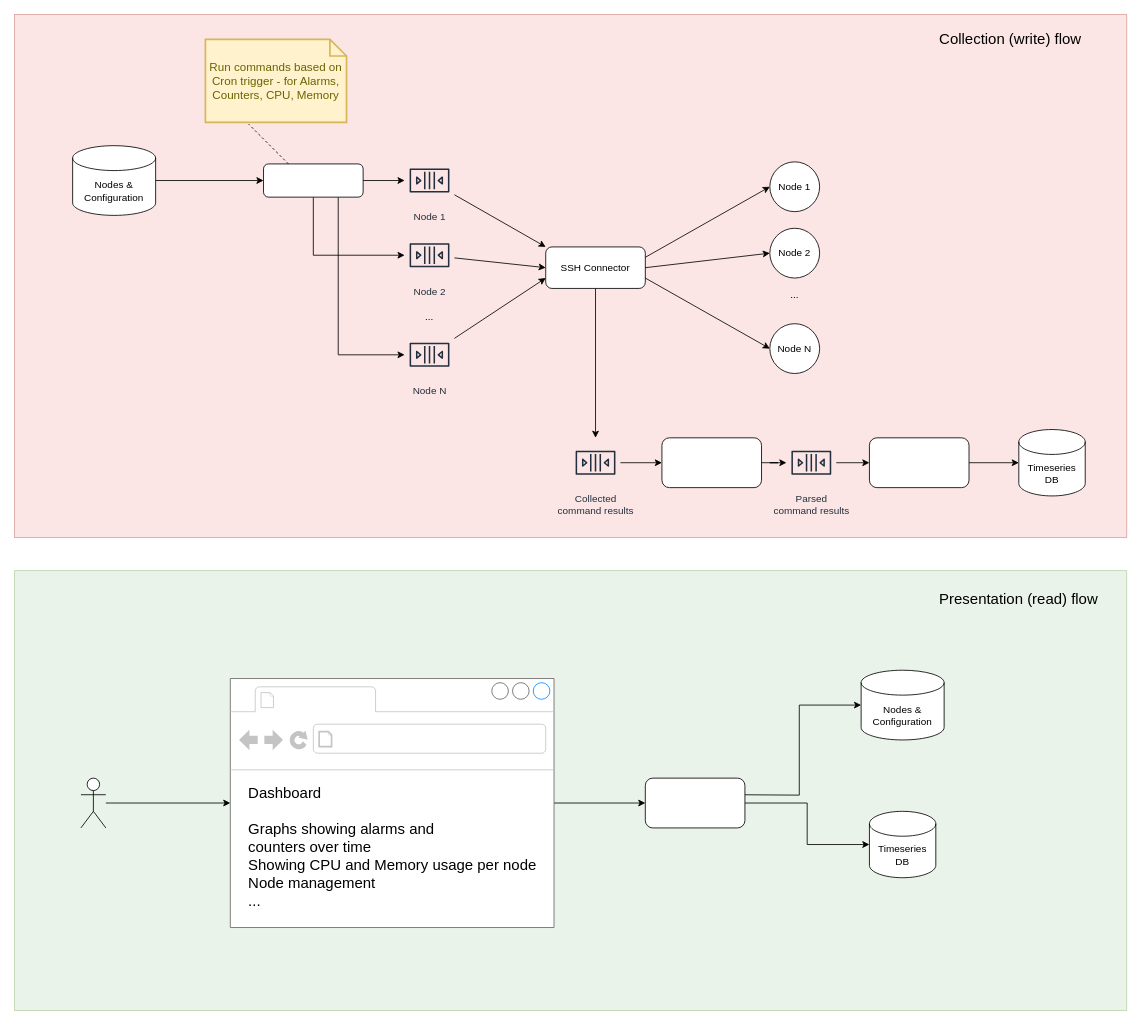
This 1141x1025 diagram has some shape labels left out. The box of each missing label's shape, as (x1, y1, x2, y2) in pixels:
https://www.draw.io: (337, 727, 546, 750)
Network administrator: (80, 777, 106, 828)
Page 1: (279, 688, 371, 710)
Parser (per metric): (661, 437, 762, 488)
Processor: (869, 437, 969, 488)
REST API: (644, 777, 745, 828)
Scheduler: (263, 163, 363, 197)
